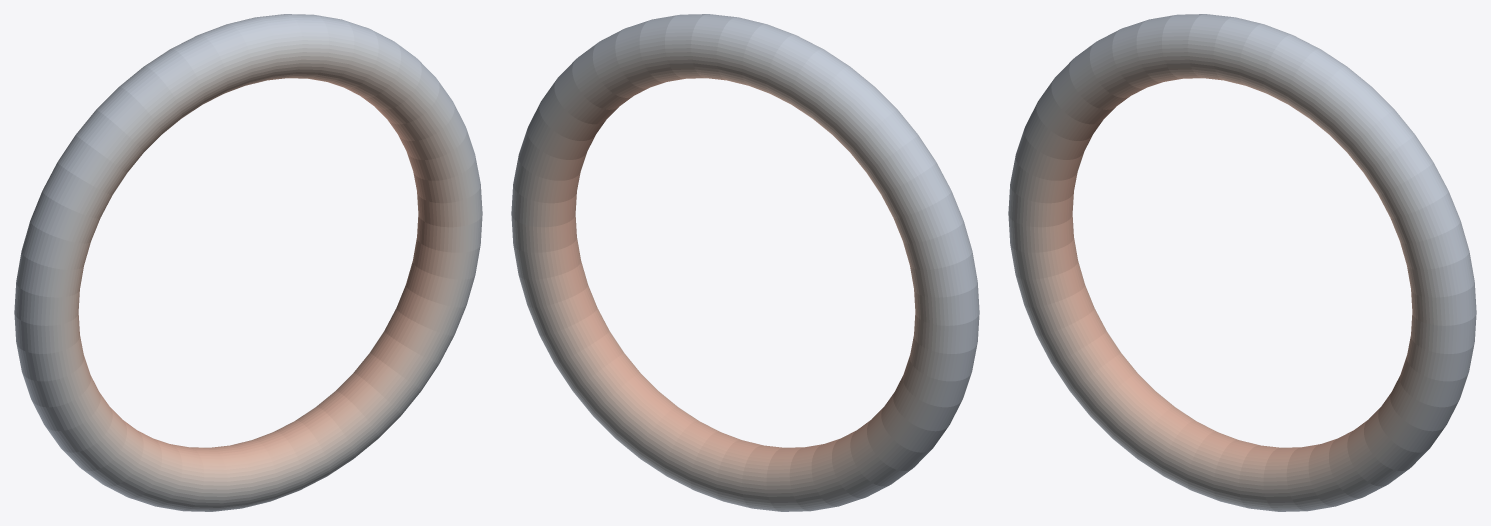
3 renders of one model, left to right at view 1: azimuth 30°, elevation 25°; view 2: azimuth 150°, elevation 25°; view 3: azimuth 330°, elevation 25°, orthographic.
Parts seen in each view (by area): view 1: world; view 2: world; view 3: world.
Boxes of the visible parts, left/top/right/bottom form: world: left=14, top=14, right=482, bottom=511; world: left=511, top=14, right=979, bottom=511; world: left=1008, top=14, right=1476, bottom=511.
Size of the model in its own units: 34.13 by 34.07 by 4.13.
